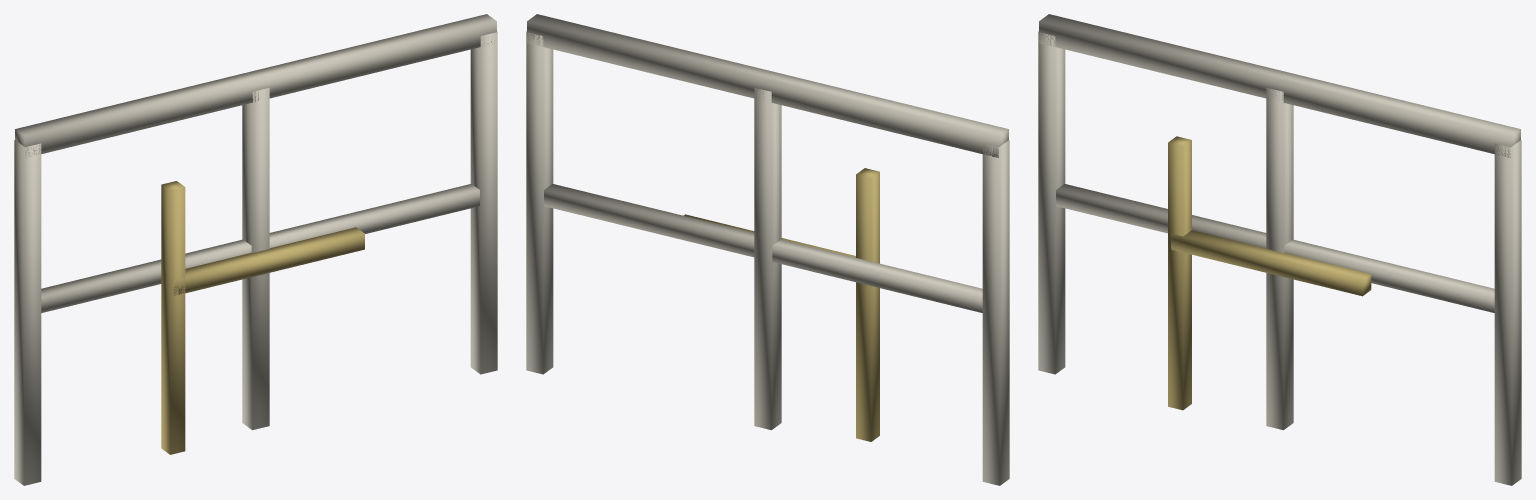
Rendered from civic_gate_l120_h85.glb.
The picture shows the model from 3 angles, left to right: view 1: azimuth 30°, elevation 25°; view 2: azimuth 150°, elevation 25°; view 3: azimuth 330°, elevation 25°; orthographic projection.
Visible parts, largest first — view 1: world; view 2: world; view 3: world.
Part boxes in pixels (x1=…): world: x1=14, y1=14, x2=497, y2=485; world: x1=526, y1=14, x2=1009, y2=485; world: x1=1038, y1=14, x2=1521, y2=485.
Bounding box in the file's own units: 1.25 × 0.8775 × 0.0825.
